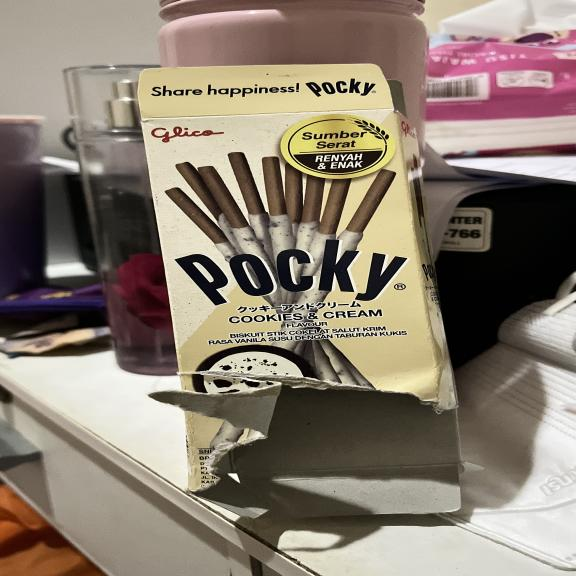Kertas: (140, 111, 460, 493)
